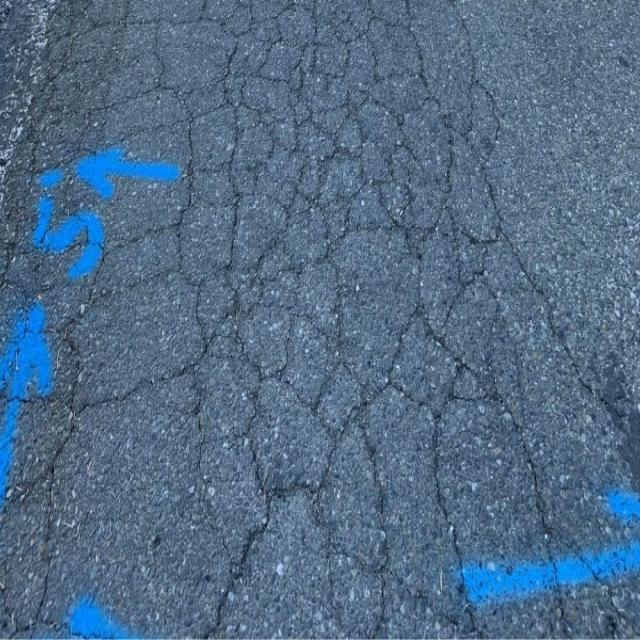Drain Hole: (224, 83, 438, 333)
